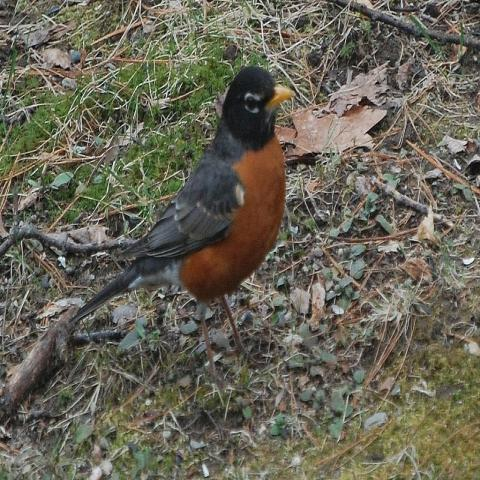bird: (71, 62, 296, 386)
